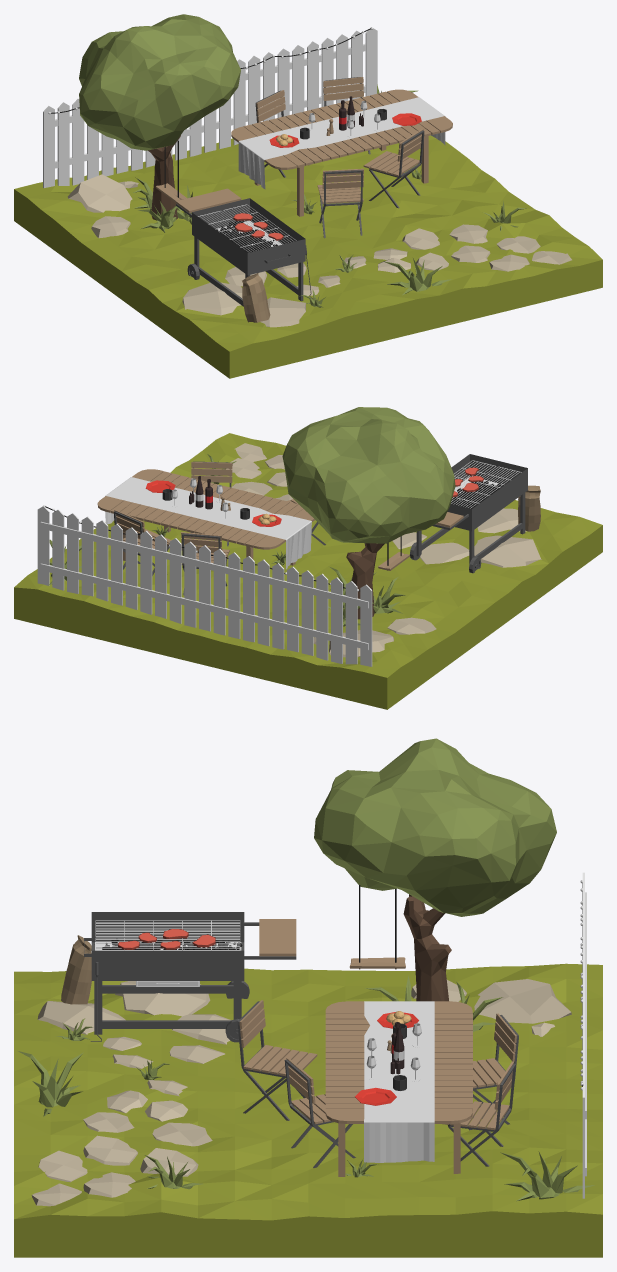
3 renders of one model, top to bottom at view 1: azimuth 30°, elevation 25°; view 2: azimuth 150°, elevation 25°; view 3: azimuth 270°, elevation 25°, orthographic. The views are drawn at different scales.
Parts seen in each view (by area): view 1: Ground, Icosphere, Fence, Plane.011, Grill, Plane.008, rock.017, rock.013, Plane.013, Vert.001, Plane.016, Plane.004 (+20 smaller); view 2: Ground, Fence, Icosphere, Cube.004, Plane.011, Plane.008, Grill, rock.013, Vert.001, Plane.004, rock.012, Plane.016 (+13 smaller); view 3: Ground, Icosphere, Plane.011, Grill, Plane.008, Vert.001, rock.017, Plane.004, Cube.001, Plane.013, rock.013, Coals (+26 smaller).
Part boxes in pixels (x1,y1,x2,y2): Ground: (14,135,602,378); Icosphere: (79,14,240,150); Fence: (43,27,377,187); Plane.011: (238,97,445,189); Grill: (192,198,305,275); Plane.008: (243,91,439,167); rock.017: (67,174,132,212); rock.013: (182,282,242,315); Plane.013: (317,168,363,203); Vert.001: (148,135,180,220); Plane.016: (363,129,423,176); Plane.004: (198,204,296,252); Ground: (14,433,602,709); Fence: (37,506,372,666); Icosphere: (282,407,455,543); Cube.004: (40,521,368,649); Plane.011: (105,477,311,569); Plane.008: (110,471,303,547); Grill: (447,454,527,530); rock.013: (469,535,541,567); Vert.001: (346,543,384,619); Plane.004: (451,460,521,508); rock.012: (420,542,469,564); Plane.016: (191,462,232,482); Ground: (14,963,602,1257); Icosphere: (314,738,556,916); Plane.011: (364,1001,434,1162); Grill: (91,912,244,980); Plane.008: (325,1013,472,1111); Vert.001: (403,894,451,1001); rock.017: (474,979,571,1023); Plane.004: (95,920,240,950); Cube.001: (101,985,233,1028); Plane.013: (239,1000,317,1076); rock.013: (115,981,210,1016); Coals: (61,935,91,1004).
Size of what is drawn, in the model's own units: 805 by 470 by 800.
